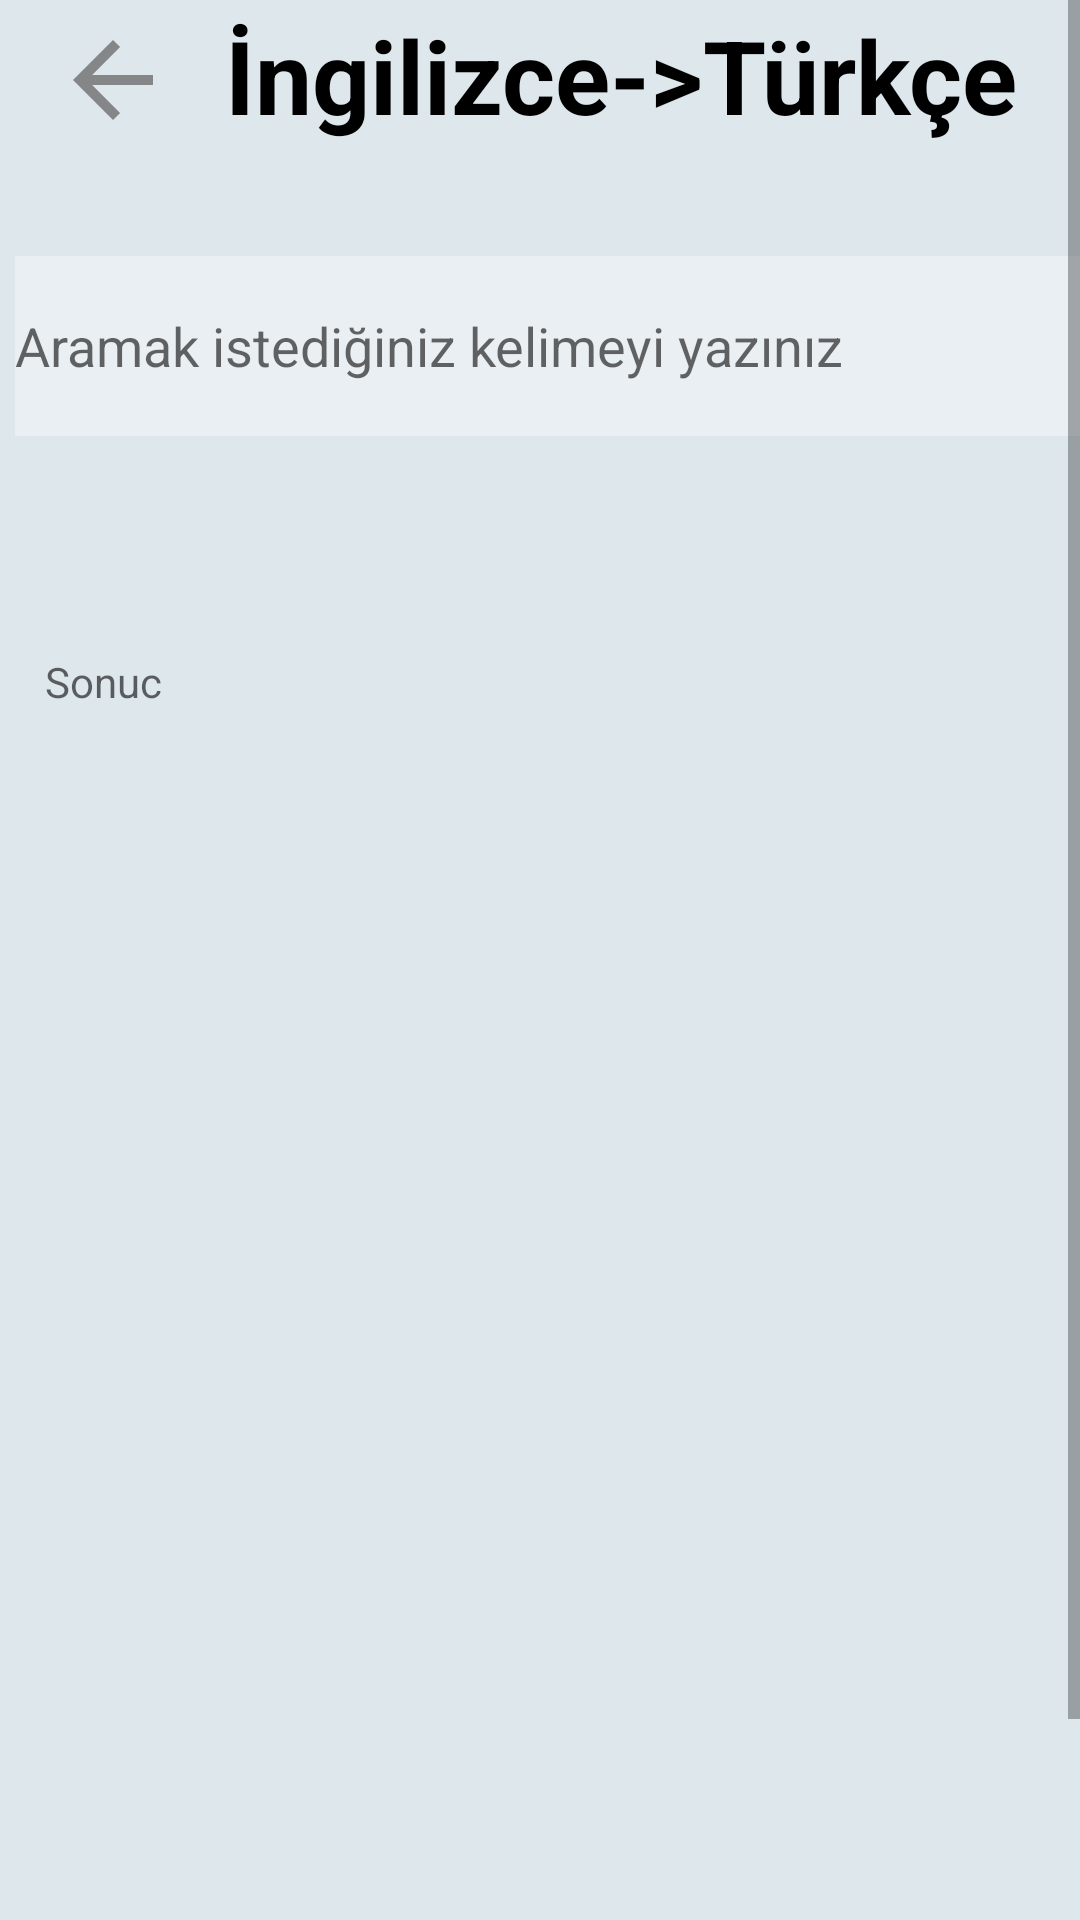

Point at icon controls on the screen. Image size 1080w x 1920h, points as (x=x, y=y).
back: (x=113, y=80)
